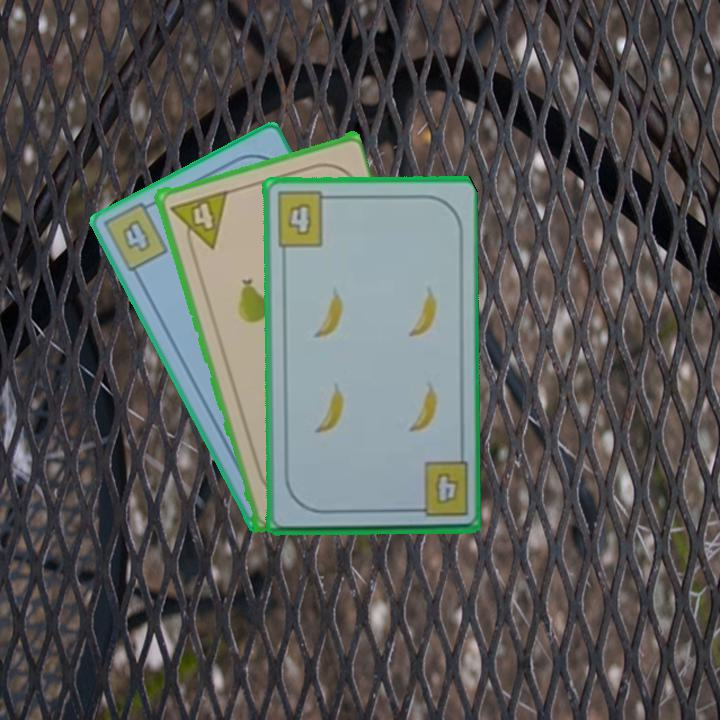4b: (103, 196, 171, 275), (406, 459, 471, 520), (273, 188, 335, 250)
4p: (165, 187, 230, 256)
